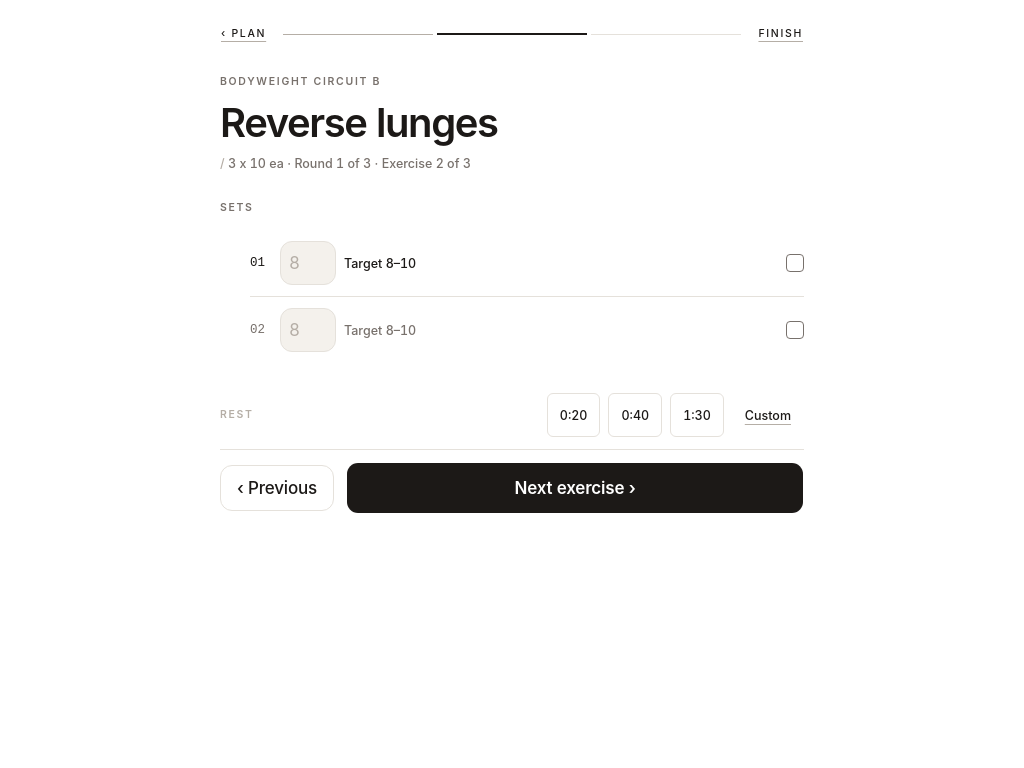
Skip session, once a set is logged › counts one set in the singular
Click the button with aria-label "Finish session" at (781, 34), box [758,12,804,56]
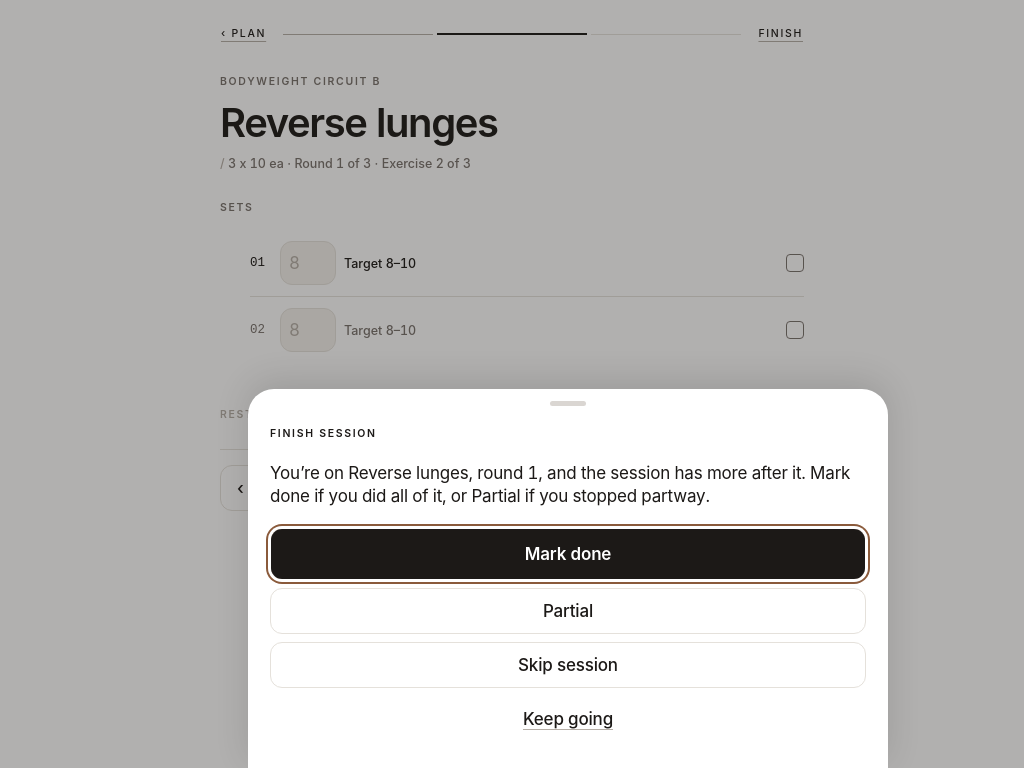
Click the button "Skip session" at (568, 665), box [270,642,866,688]
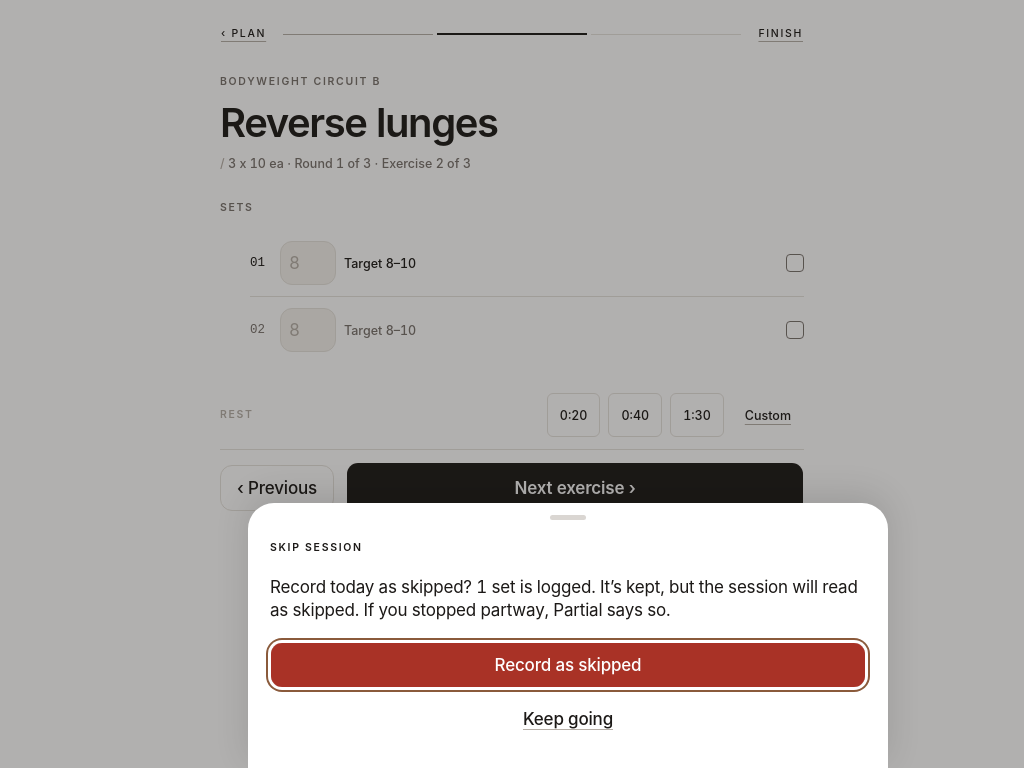
Result: the text "1 set is logged. It’s kept," is shown at [476,577,665,597]
